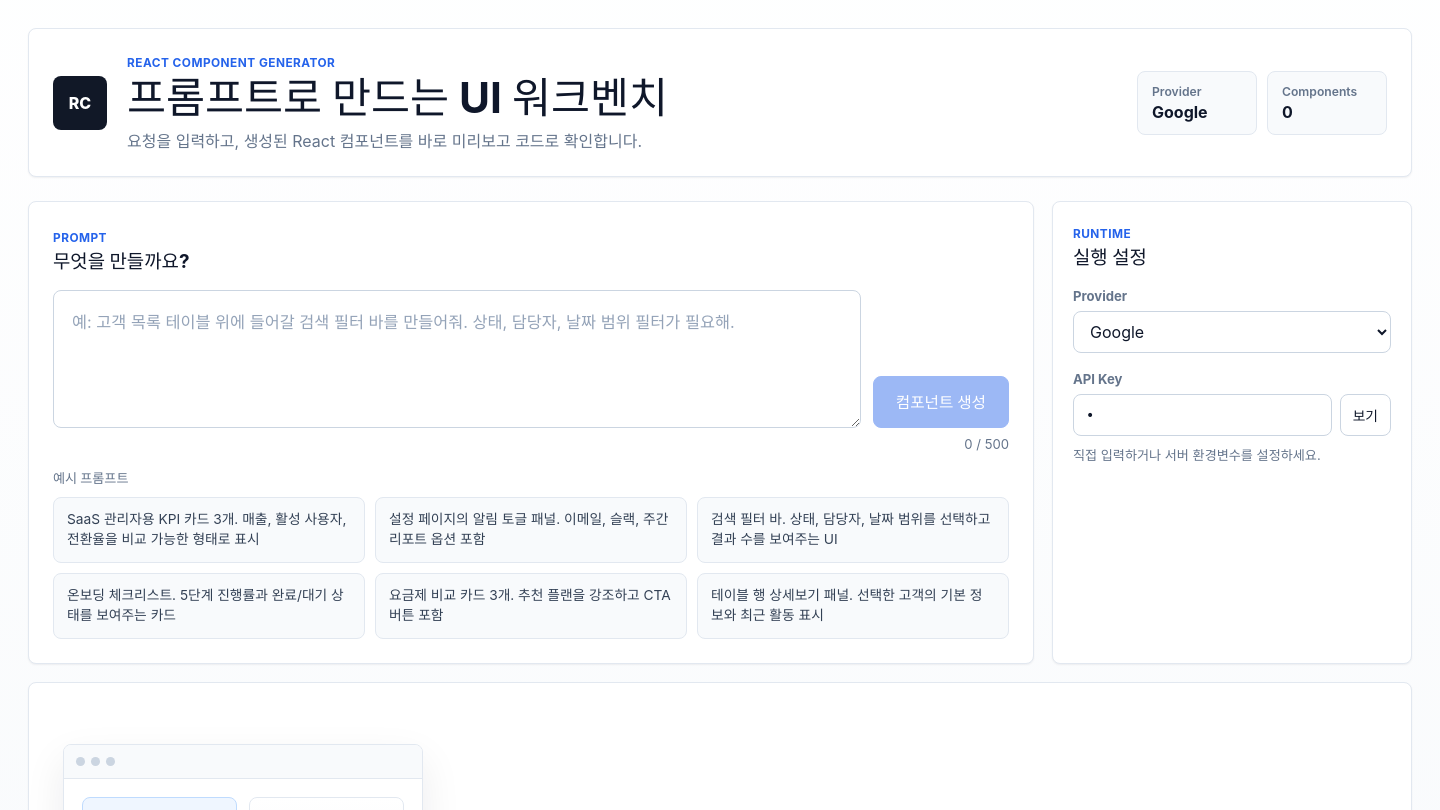
it: App 프롬프트 히스토리와 컴포넌트 목록 › 생성이 실패하면 프롬프트를 히스토리에 저장하지 않는다
This screenshot has width=1440, height=810.
In the text box: (457, 359) [53,290,861,428], type "실패할 프롬프트"
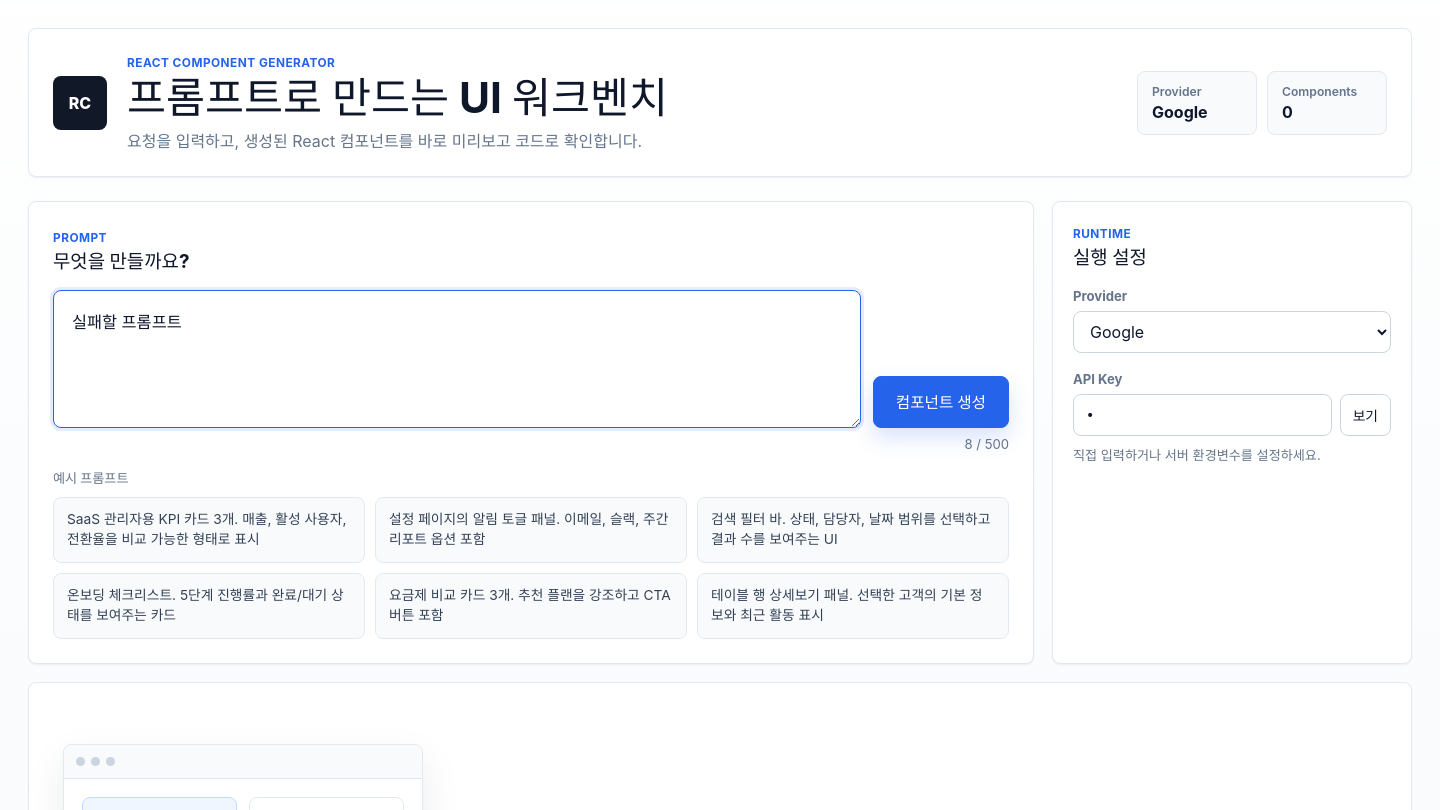
Click the button "컴포넌트 생성": (941, 402) [873,376,1009,428]
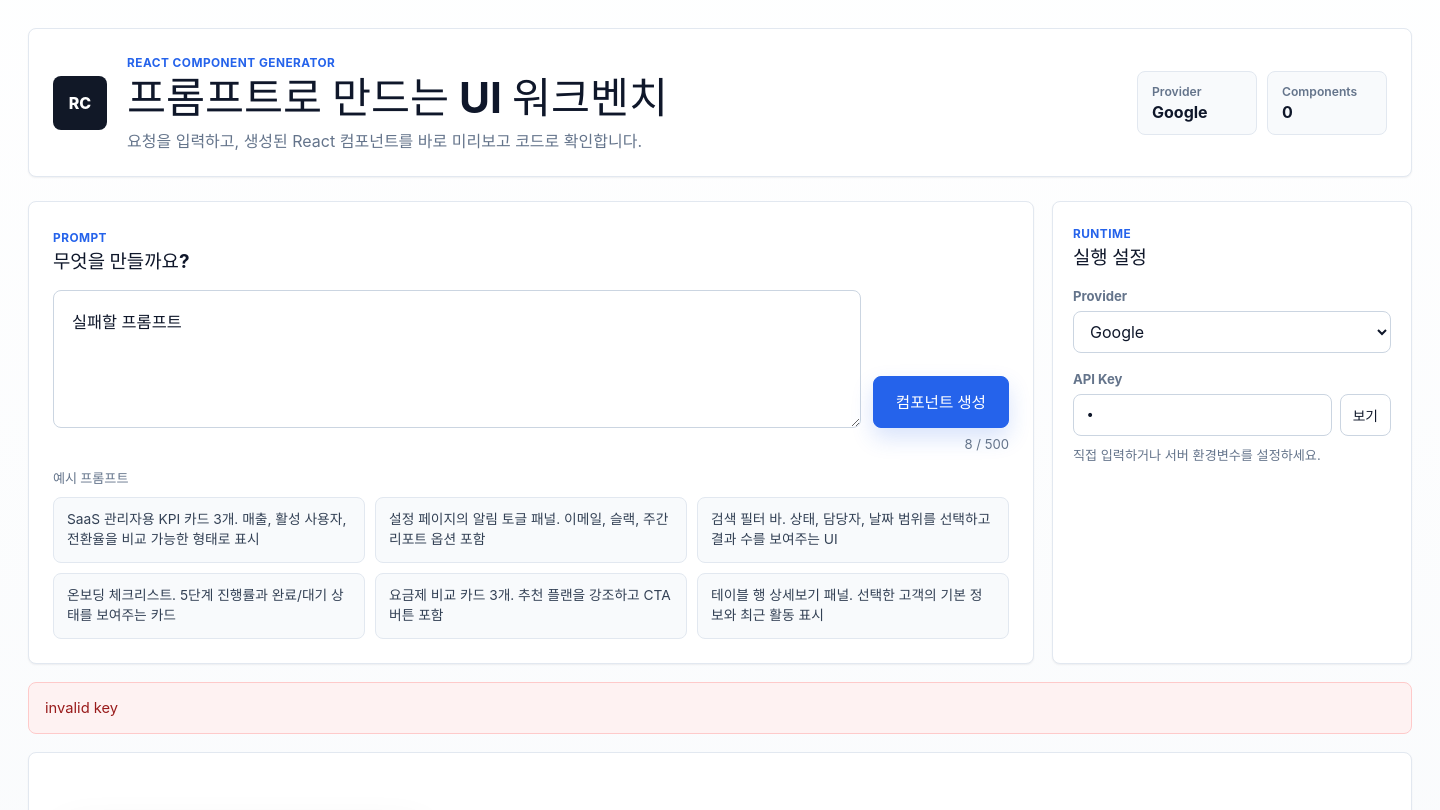
Result: the text "invalid key" is shown at [45,699,118,717]
